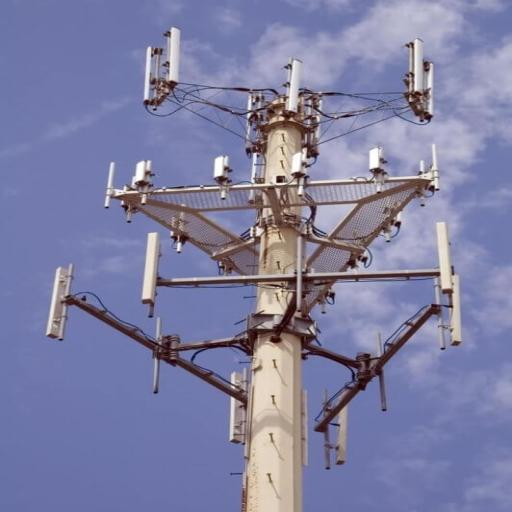monopole_tower: (44, 26, 462, 512)
